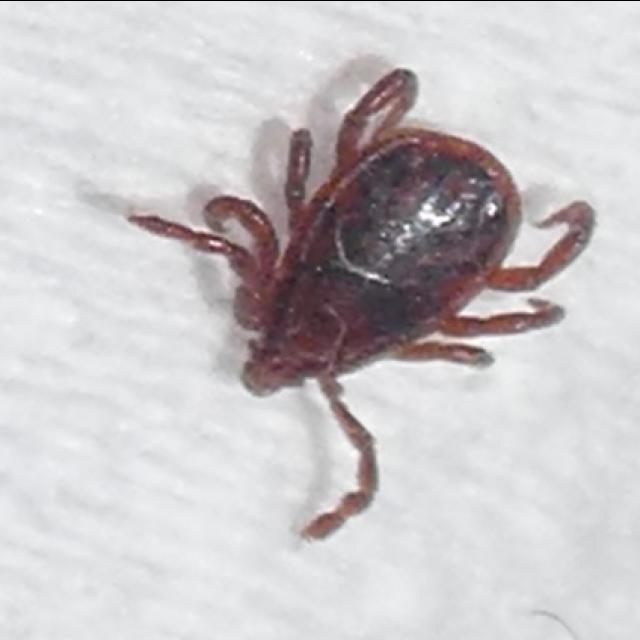Rhipicephalus Sanguineus-M: (125, 65, 595, 541)
